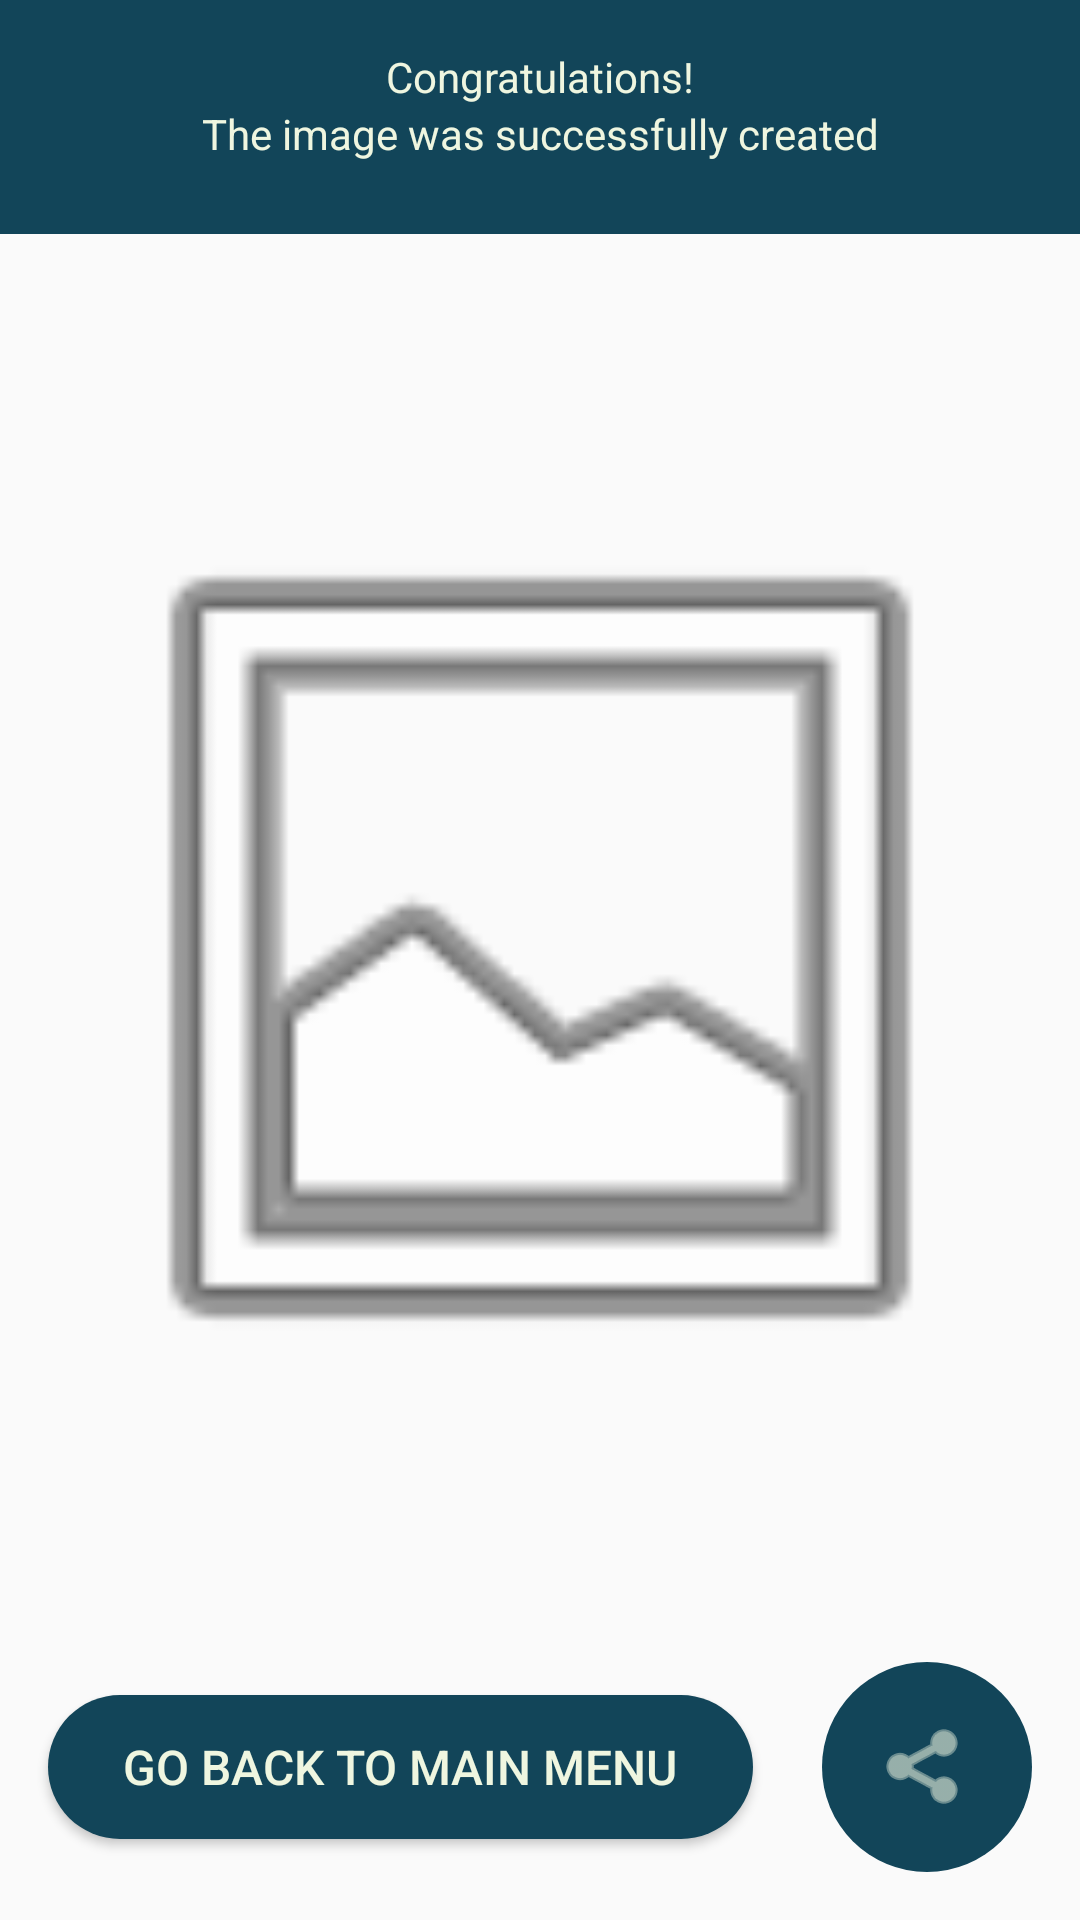

Point at icon controls on the screen. Image size 1080*1920, points as [x,y].
share: [927,1767]
